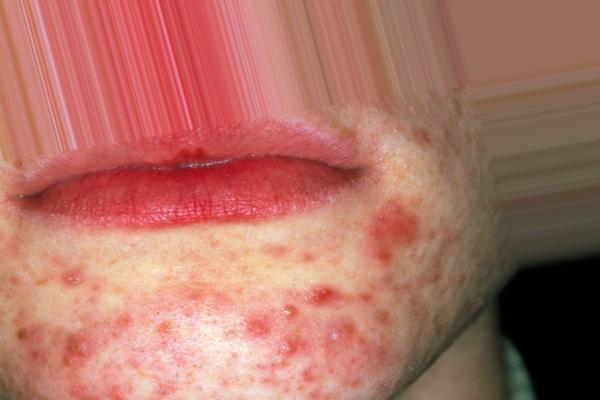Acne: (355, 186, 442, 296), (245, 300, 325, 379), (298, 283, 372, 354)
